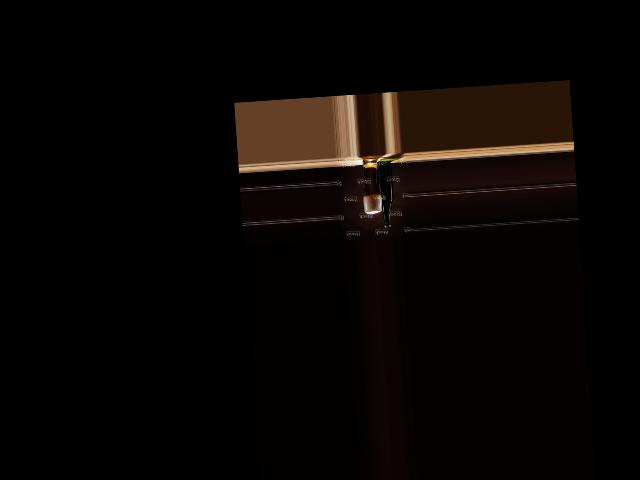beer: (376, 160, 395, 227)
